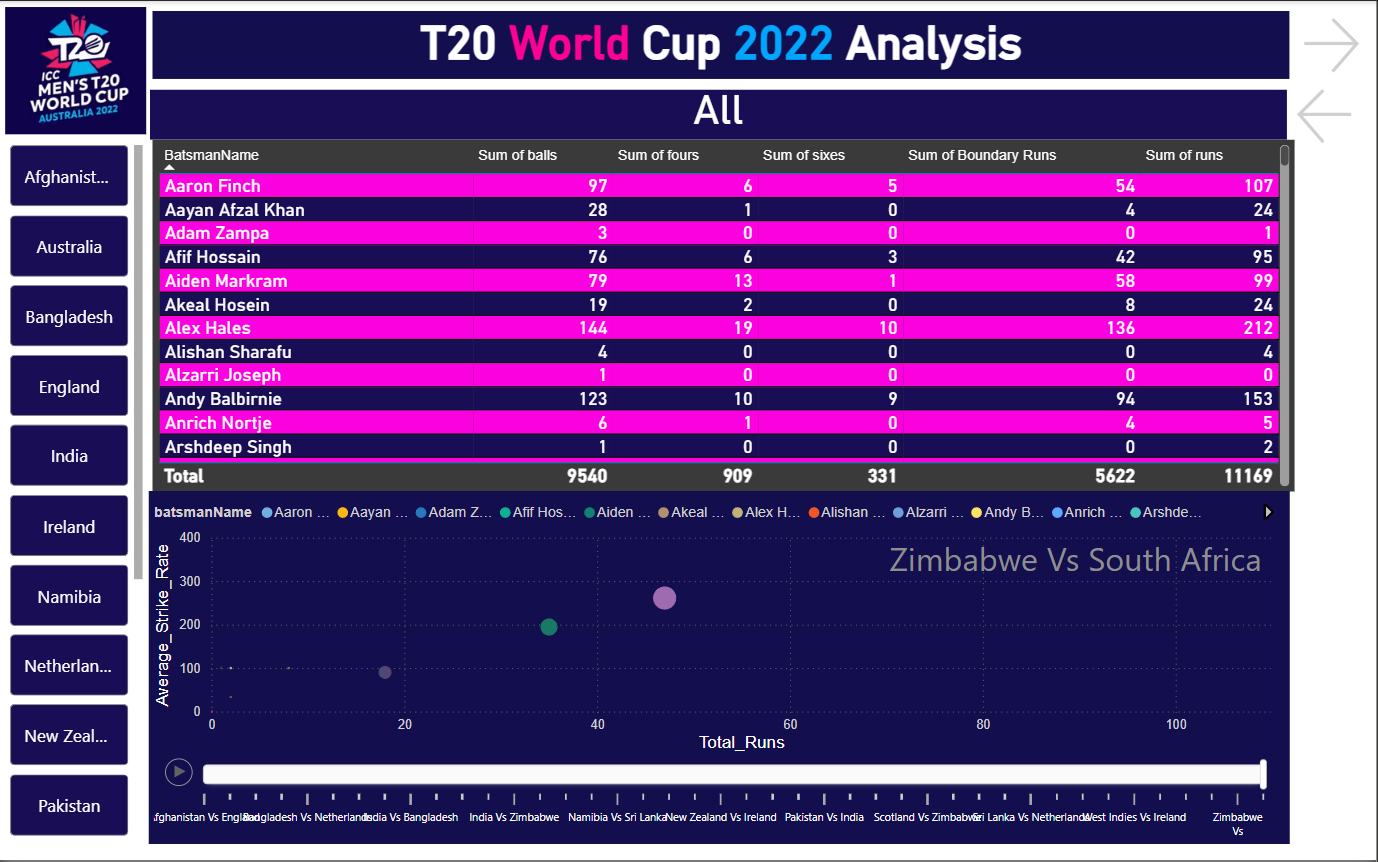

The dashboard page shown, as its layout file describes it:
{"tool":"powerbi","page":{"name":"Batting Performance","canvas":[1280,800],"ordinal":2},"visuals":[{"type":"textbox","box":[141.3,9.6,1058,63.1],"z":0},{"type":"image","box":[0,0,140.7,129.1],"z":1000},{"type":"advancedSlicerVisual","fields":{"Values":["batting_summary.teamInnings"]},"box":[4.1,129,133.1,654.5],"z":2000},{"type":"card","fields":{"Values":["Measures Table.Selected_Team"]},"box":[139.7,82.2,1057.5,46.6],"z":3000},{"type":"tableEx","fields":{"Values":["batting_summary.batsmanName","batting_summary.balls","batting_summary.fours","batting_summary.sixes","batting_summary.Boundary Runs","batting_summary.runs"]},"box":[141.8,129.2,1062.7,327.1],"z":4000},{"type":"scatterChart","fields":{"X":["Measures Table.Total_Runs"],"Play":["batting_summary.match"],"Y":["Measures Table.Average_Strike_Rate"],"Series":["batting_summary.batsmanName"],"Size":["Measures Table.Total_Fours"]},"box":[138.6,456.2,1061.1,327.7],"z":5000},{"type":"actionButton","box":[1205.6,9.3,74.4,64],"z":6000},{"type":"actionButton","box":[1200.7,75.2,78.6,63.2],"z":7000}]}

Visuals, with their boxes in screenshot pixels (x1, y1, x2, y2), scaled from the page's 1280x800 canvas onto the 1378x862 screenshot:
textbox: left=152, top=10, right=1291, bottom=78
image: left=0, top=0, right=151, bottom=139
advancedSlicerVisual - batting_summary.teamInnings: left=4, top=139, right=148, bottom=844
card - Measures Table.Selected_Team: left=150, top=89, right=1289, bottom=139
tableEx - batting_summary.batsmanName x batting_summary.balls: left=153, top=139, right=1297, bottom=492
scatterChart - Measures Table.Total_Runs x batting_summary.match: left=149, top=492, right=1292, bottom=845
actionButton: left=1298, top=10, right=1377, bottom=79
actionButton: left=1293, top=81, right=1377, bottom=149
